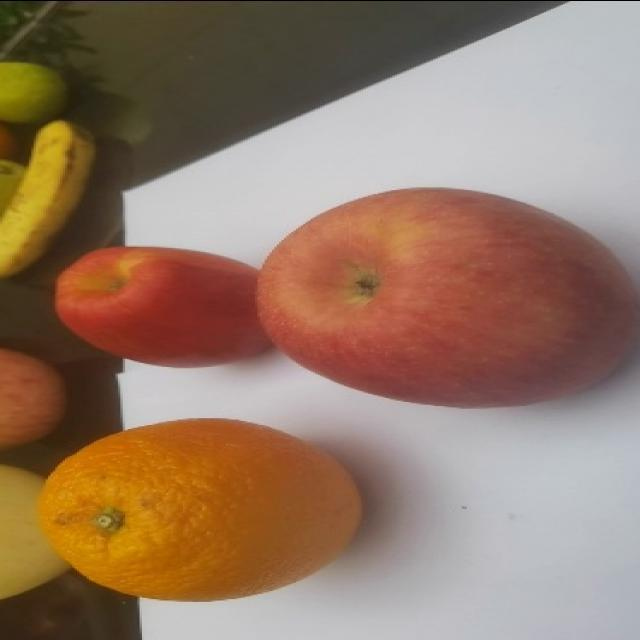Apple: (252, 186, 640, 412), (50, 242, 296, 369), (0, 345, 62, 451)
Banana: (0, 116, 97, 276)
Orange: (39, 415, 369, 605)
